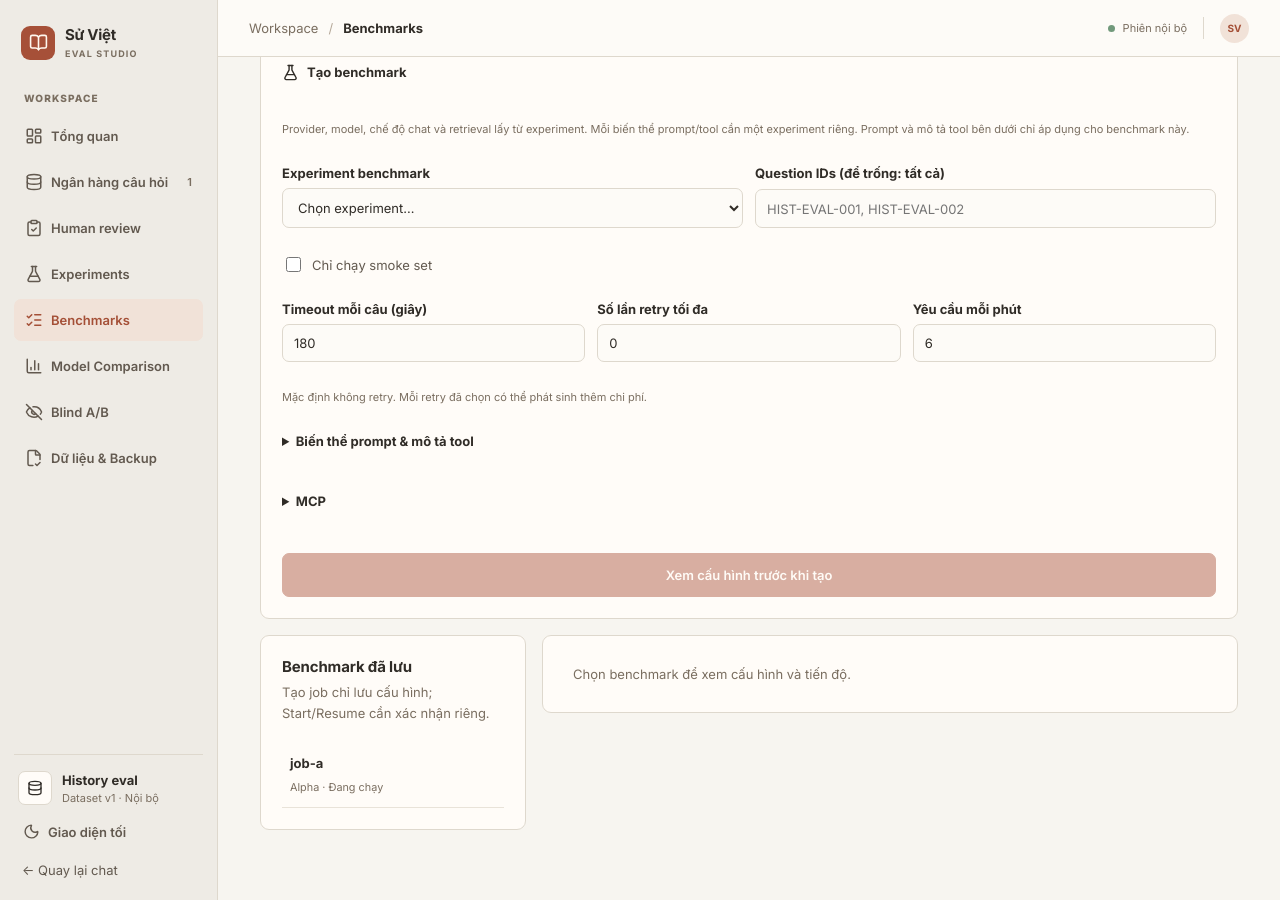
Test: an expired worker lease offers owner-confirmed resume without restarting automatically
(page scrolled)
Click the button "job-a Alpha · Đang chạy".
click(393, 775)  # box 282,742 -> 504,808
(page scrolled)
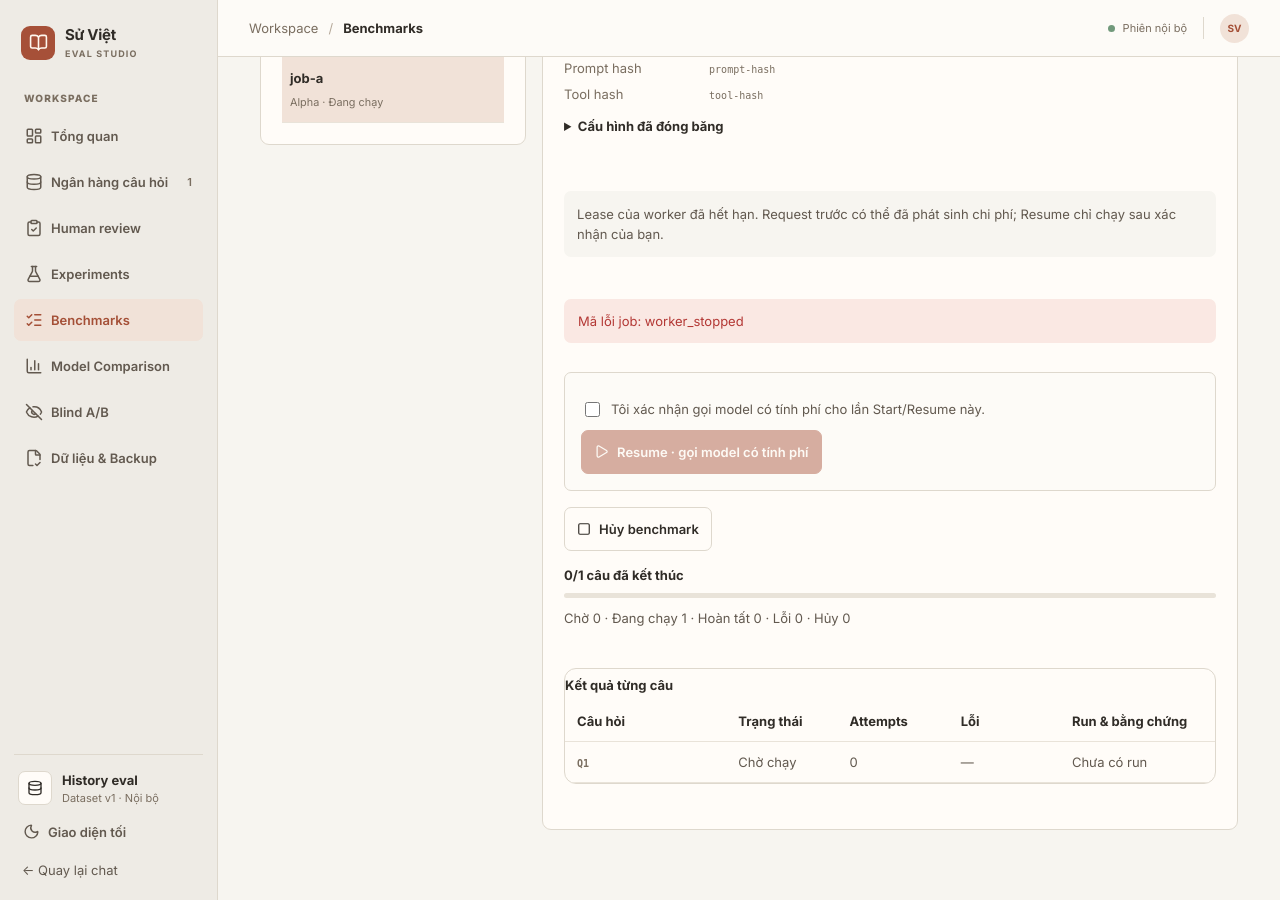
Expected: the button "Resume · gọi model có tính phí" is disabled, 581,430 -> 822,474
Now the text "Lease của worker đã hết hạn" is shown, box 577,206 -> 1176,242
